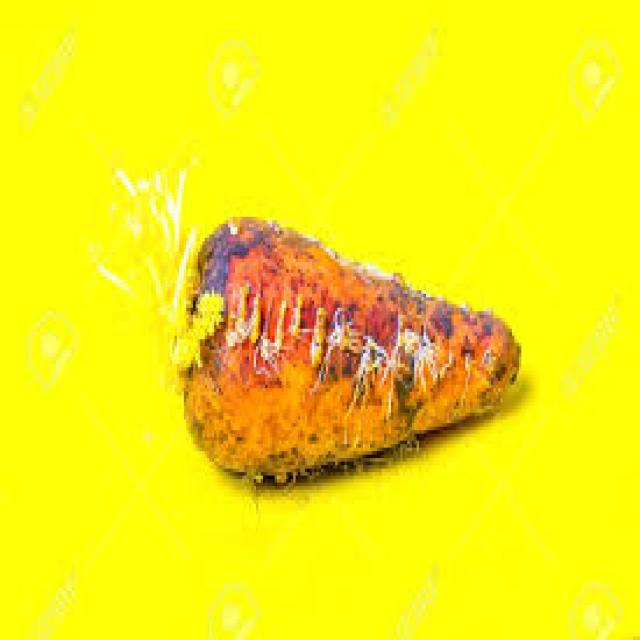organic waste: (177, 213, 519, 483), (91, 157, 221, 364)
